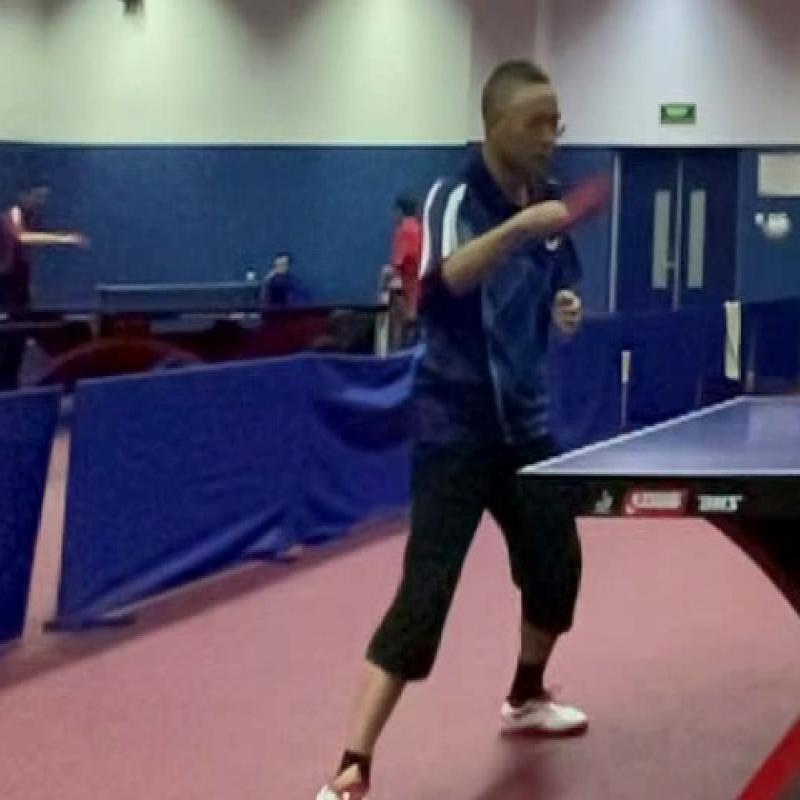bats: (544, 158, 624, 256)
